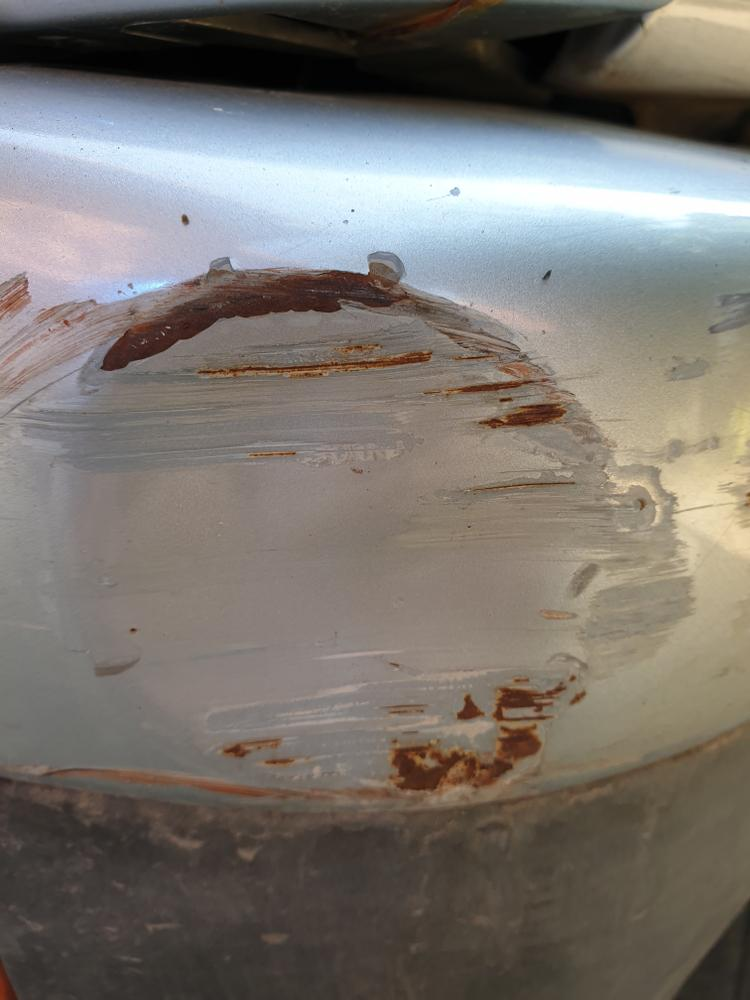dent: (50, 274, 633, 808)
scratch: (598, 288, 750, 682), (0, 269, 129, 462)
